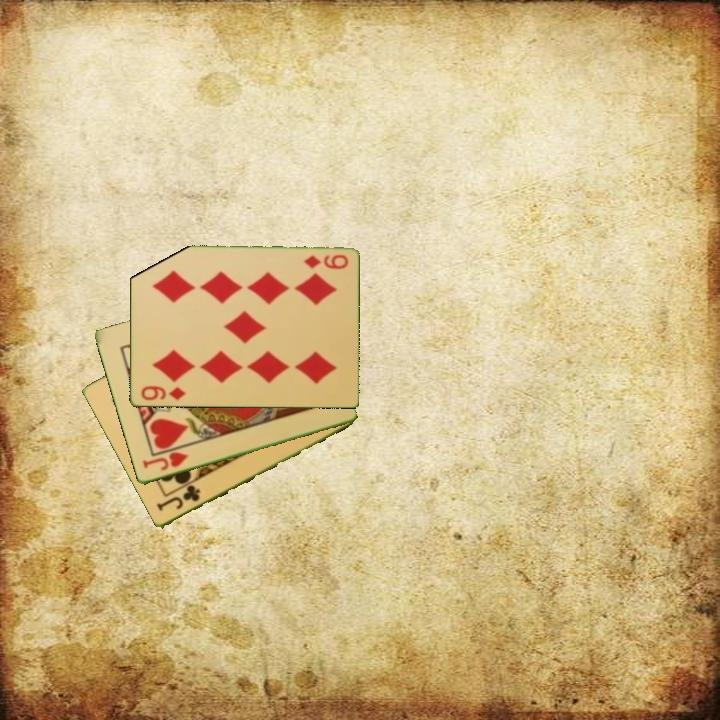9d: (138, 382, 188, 404), (300, 252, 351, 272)
Jc: (153, 482, 203, 514)
Jh: (139, 449, 191, 474)
